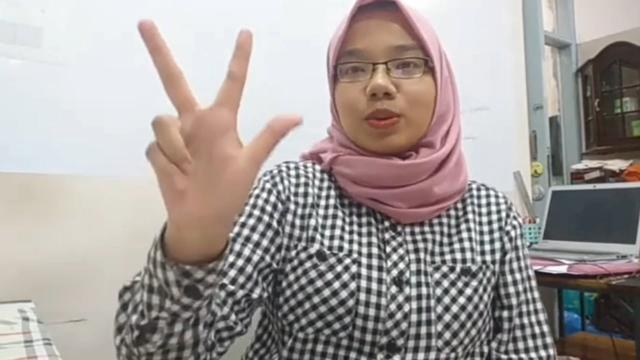K: (136, 19, 300, 221)
